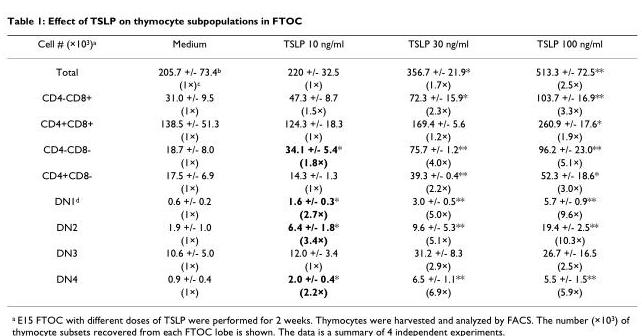table: (36, 37, 602, 297)
table column: (374, 37, 502, 297), (126, 37, 251, 297), (251, 37, 374, 297), (502, 37, 602, 297), (36, 37, 126, 297)
table column header: (36, 37, 602, 57)
table row: (36, 37, 602, 57), (36, 57, 602, 77), (36, 77, 602, 90), (36, 90, 602, 103), (36, 103, 602, 116), (36, 116, 602, 129), (36, 129, 602, 142), (36, 142, 602, 155), (36, 155, 602, 168), (36, 168, 602, 181), (36, 193, 602, 206), (36, 206, 602, 219), (36, 219, 602, 232), (36, 232, 602, 245), (36, 245, 602, 258), (36, 258, 602, 271), (36, 271, 602, 284), (36, 284, 602, 297), (36, 181, 602, 193)
table spanning cell: (36, 57, 126, 90), (36, 90, 126, 116), (36, 116, 126, 142), (36, 142, 126, 168), (36, 193, 126, 219), (36, 219, 126, 245), (36, 245, 126, 271), (36, 271, 126, 297), (36, 168, 126, 193)
